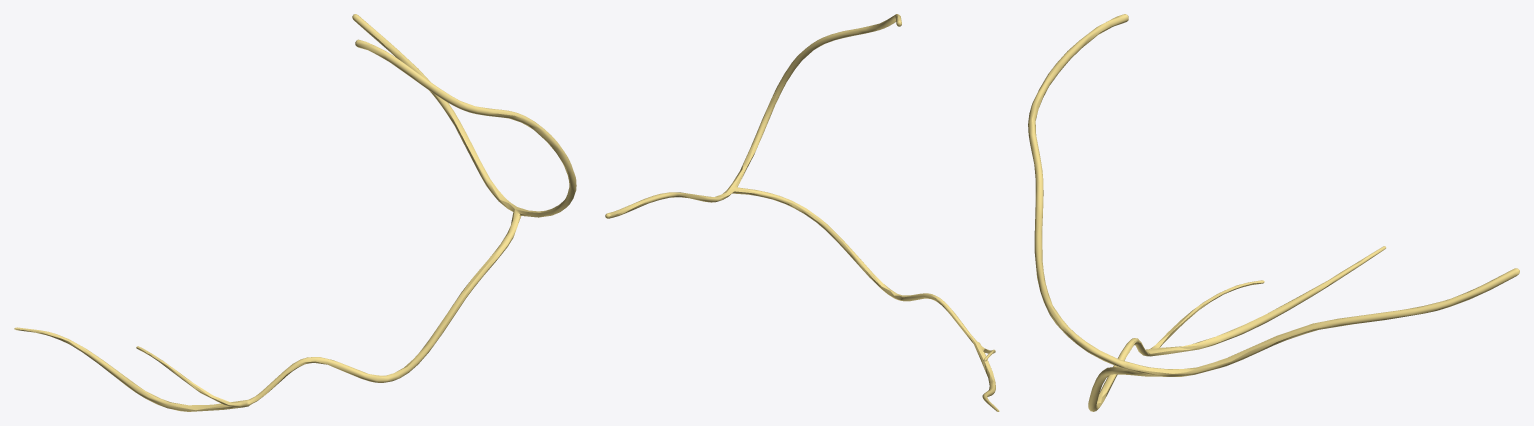
File: fma52968_fj4042.glb
3 renders of one model, left to right at view 1: azimuth 30°, elevation 25°; view 2: azimuth 150°, elevation 25°; view 3: azimuth 270°, elevation 25°, orthographic. The views are drawn at different scales.
Parts seen in each view (by area): view 1: FMA52968_FJ4042; view 2: FMA52968_FJ4042; view 3: FMA52968_FJ4042.
Boxes of the visible parts, <box> form: FMA52968_FJ4042: <box>14,14,576,411</box>; FMA52968_FJ4042: <box>605,14,999,411</box>; FMA52968_FJ4042: <box>1028,14,1519,411</box>.
Size of the model in its own units: 0.0484 by 0.0399 by 0.0431.
